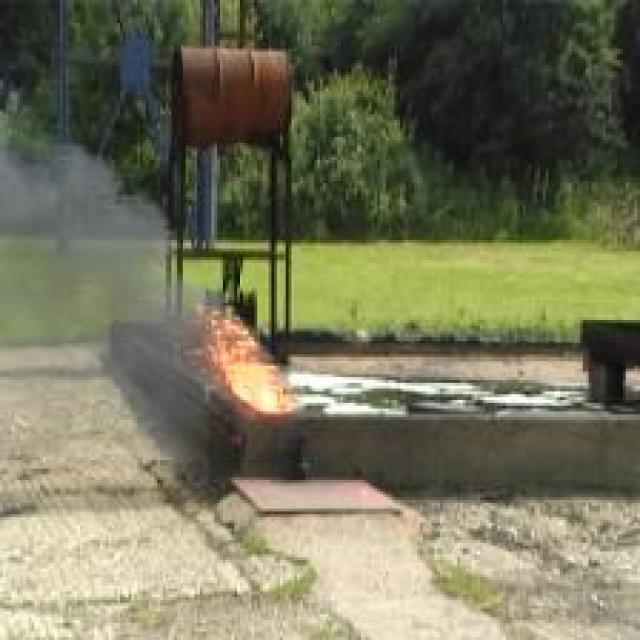Fire: (200, 306, 300, 412)
